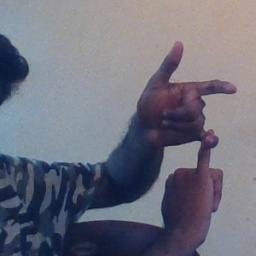S: (121, 33, 239, 228)
